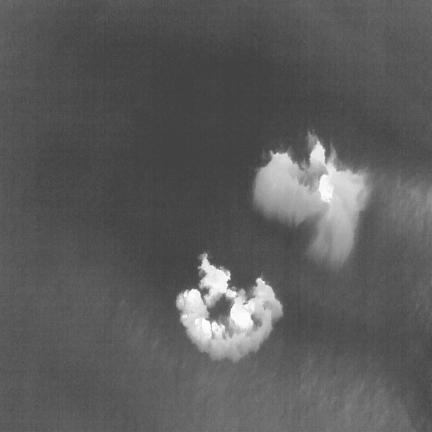flukeprints: (253, 134, 367, 263), (176, 254, 281, 360)
